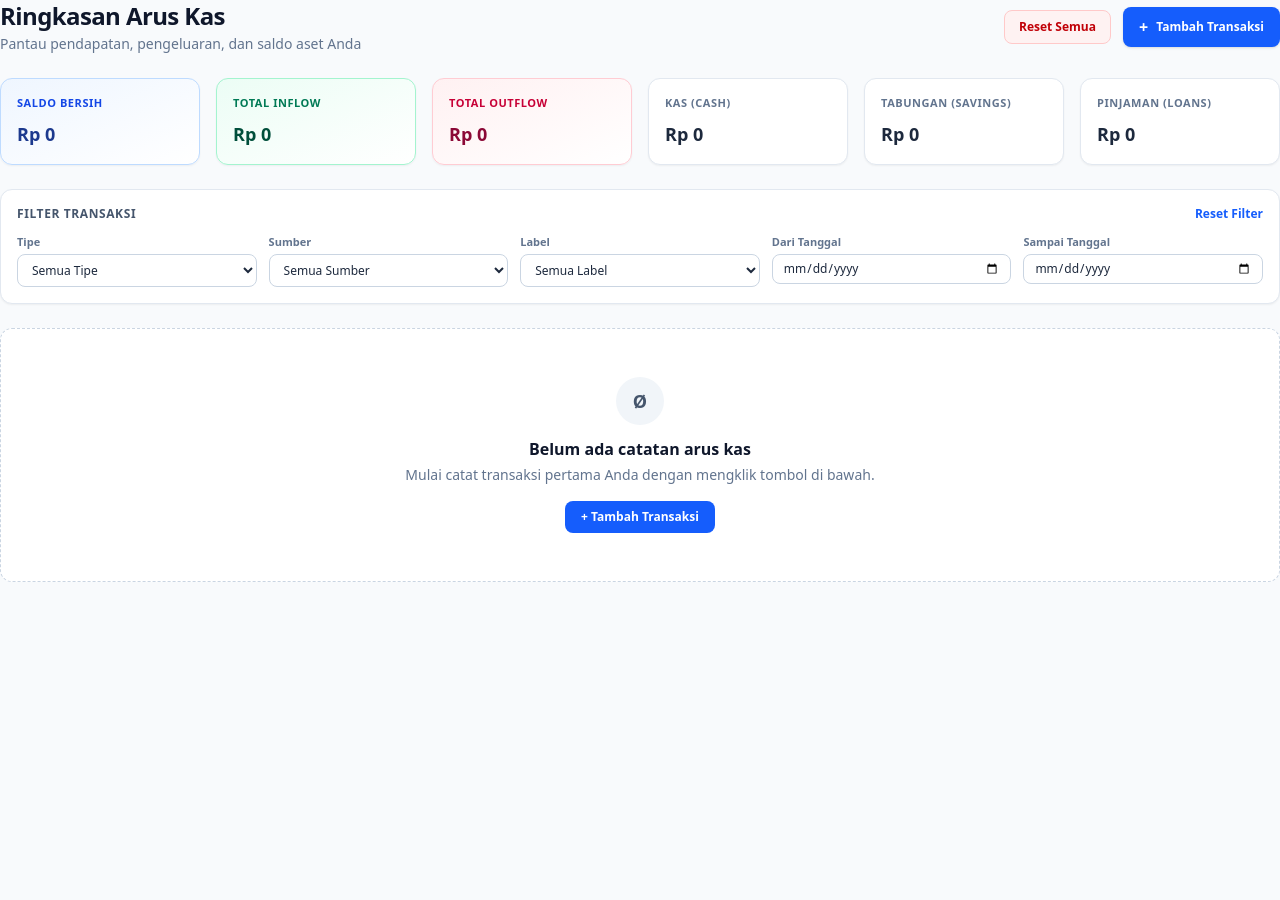
Scenario: HomePage › opens add modal
Click the button "+ Tambah Transaksi" in the row of "Ringkasan Arus Kas" at (1202, 27), box [1123,7,1279,47]
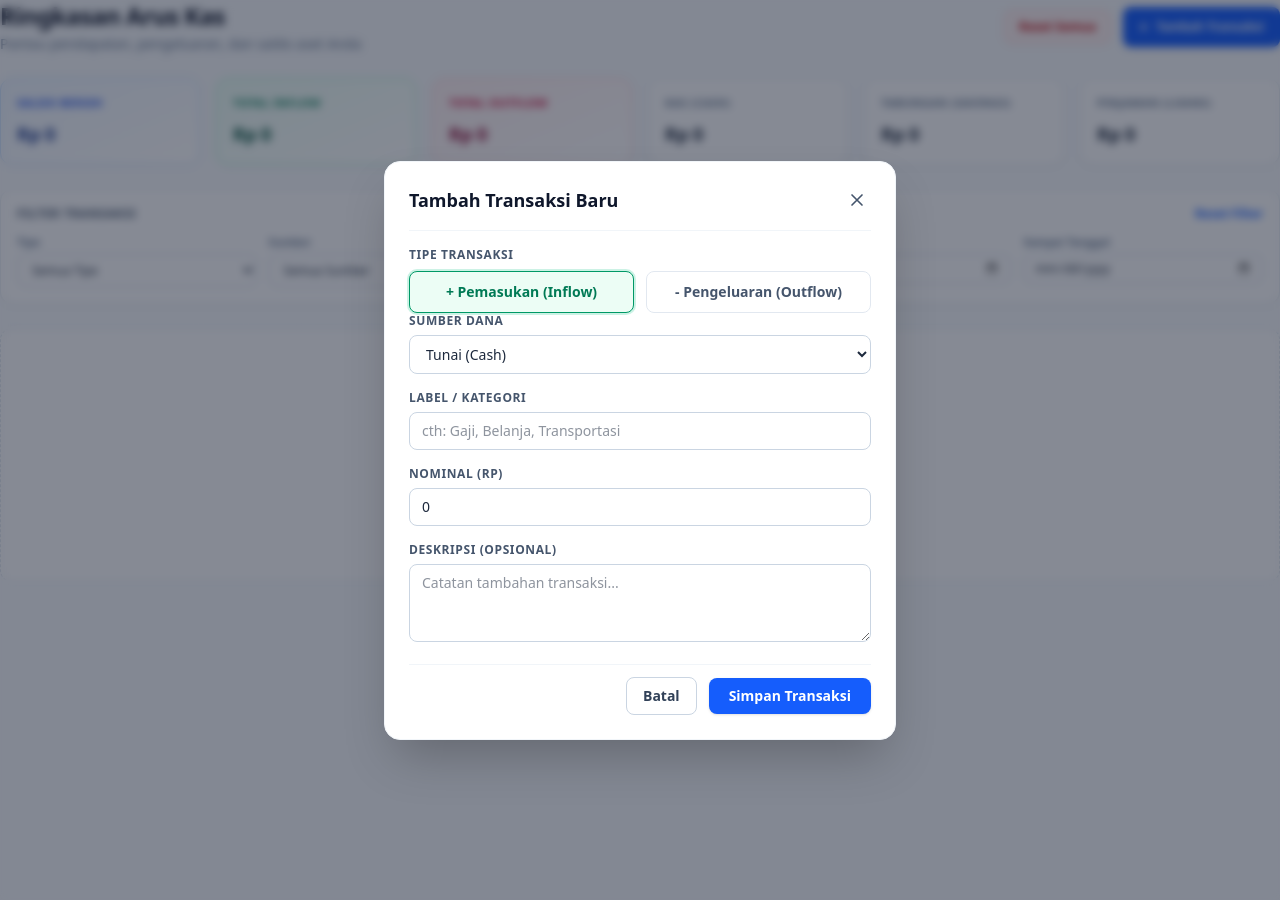
Now the element with test id "add-modal-backdrop" is shown
